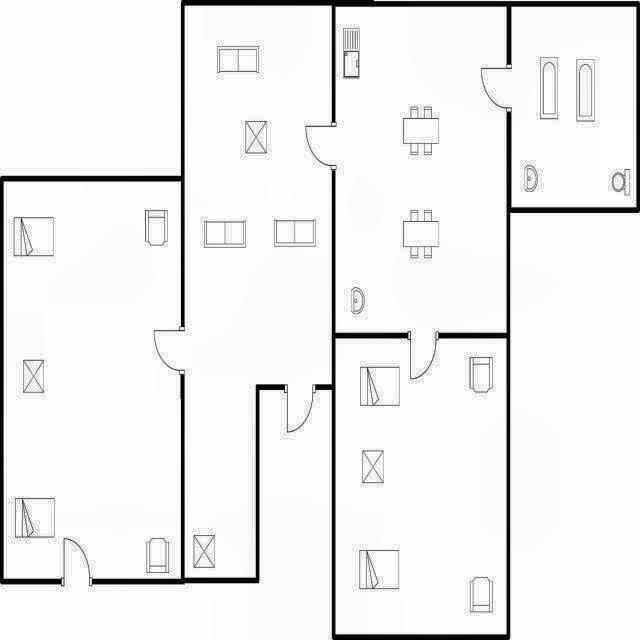room: (185, 6, 332, 578), (4, 181, 181, 579), (335, 7, 507, 333), (335, 338, 507, 634), (511, 7, 636, 207)
